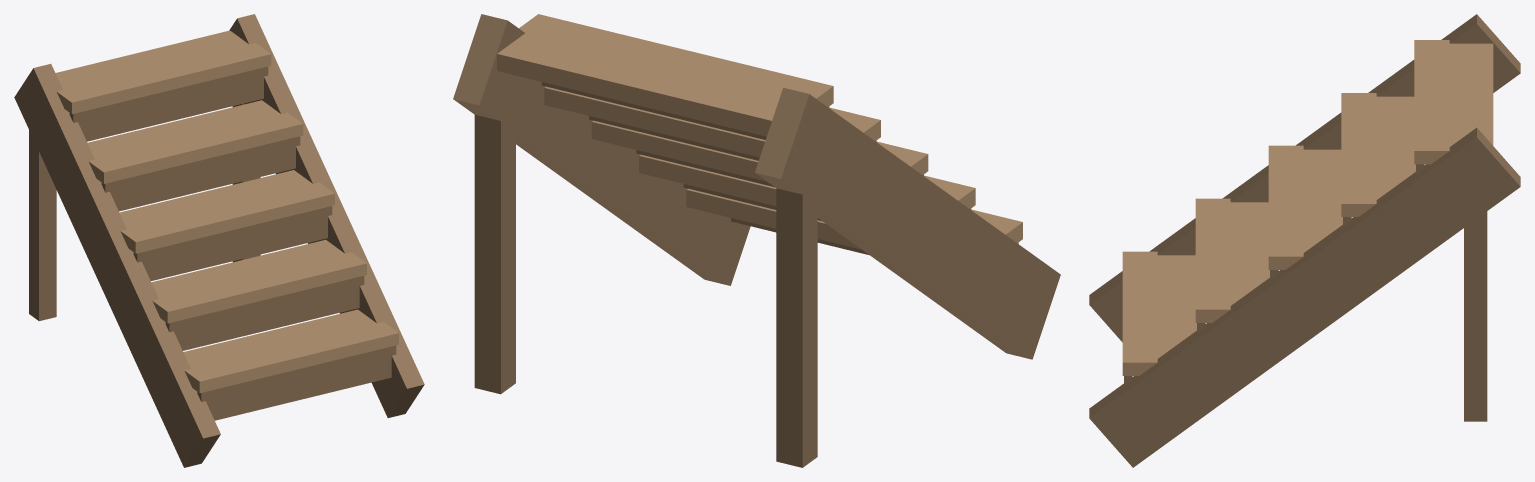
Rendered from prop-stairs-wood.fbx.
3 views of the same model, side by side, from view 1: azimuth 30°, elevation 25°; view 2: azimuth 150°, elevation 25°; view 3: azimuth 270°, elevation 25° (orthographic). The views are drawn at different scales.
Parts seen in each view (by area): view 1: prop-stairs-wood; view 2: prop-stairs-wood; view 3: prop-stairs-wood.
Boxes of the visible parts, x1,y1,x2,y2 form: prop-stairs-wood: (14, 14, 424, 467); prop-stairs-wood: (453, 14, 1060, 467); prop-stairs-wood: (1089, 14, 1520, 467).
Bounding box in the file's own units: 100 × 125 × 148.
